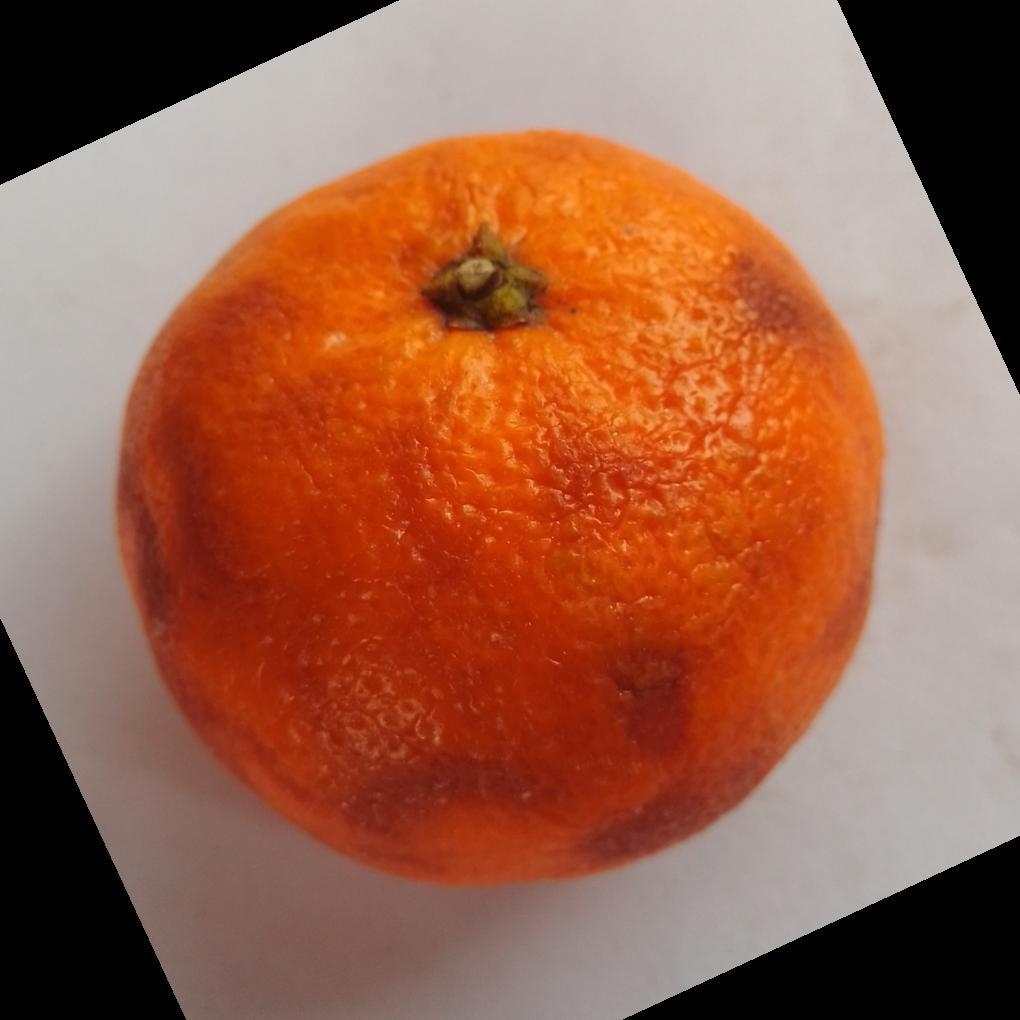FreshOrange: (110, 130, 888, 892)
